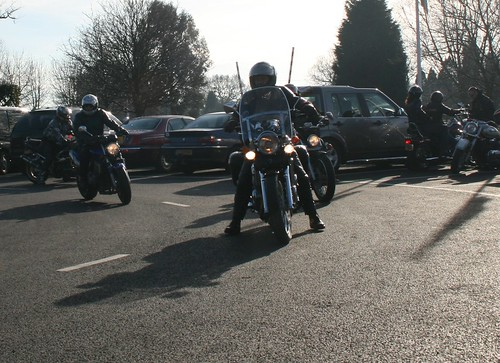helmet: (246, 63, 272, 88), (83, 90, 100, 111), (54, 103, 74, 120), (429, 87, 446, 101), (409, 82, 421, 95)
